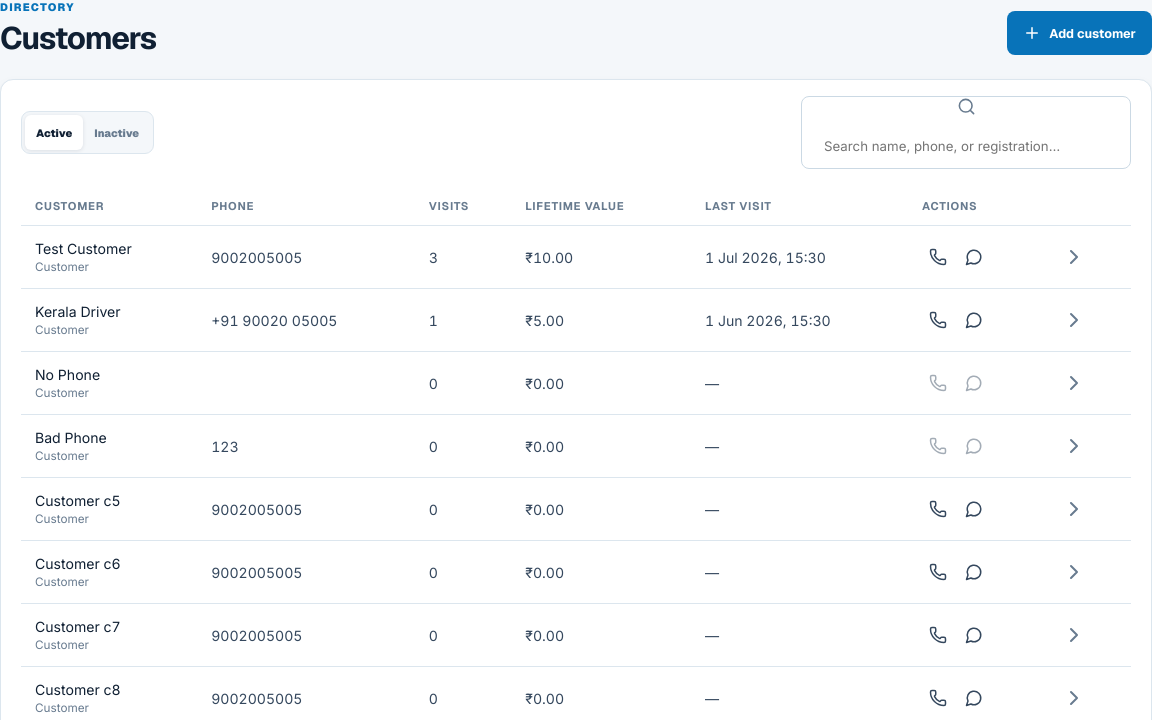
it: Customers directory — registration search › returns the associated customer for a full normalized registration
Expected: the text "Test Customer" is shown, [35,240,132,257]
Type "KL25A1234" into the search field with placeholder "Search name, phone, or registration…".
click(966, 146); type("KL25A1234")  # box [813,124,1119,168]
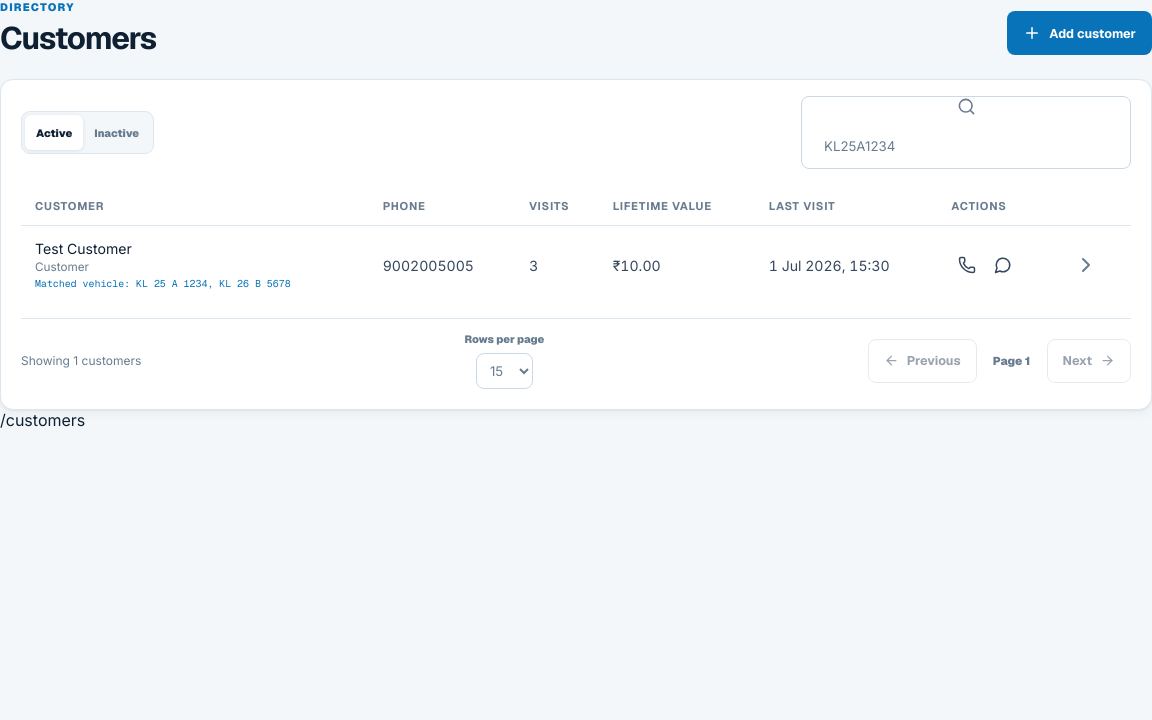
Result: the text "Matched vehicle: KL 25 A 1234, KL 26 B 5678" is shown at [35,277,291,290]
